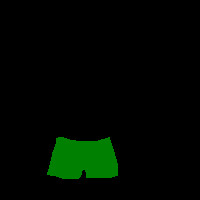mutande: (46, 136, 118, 179)
